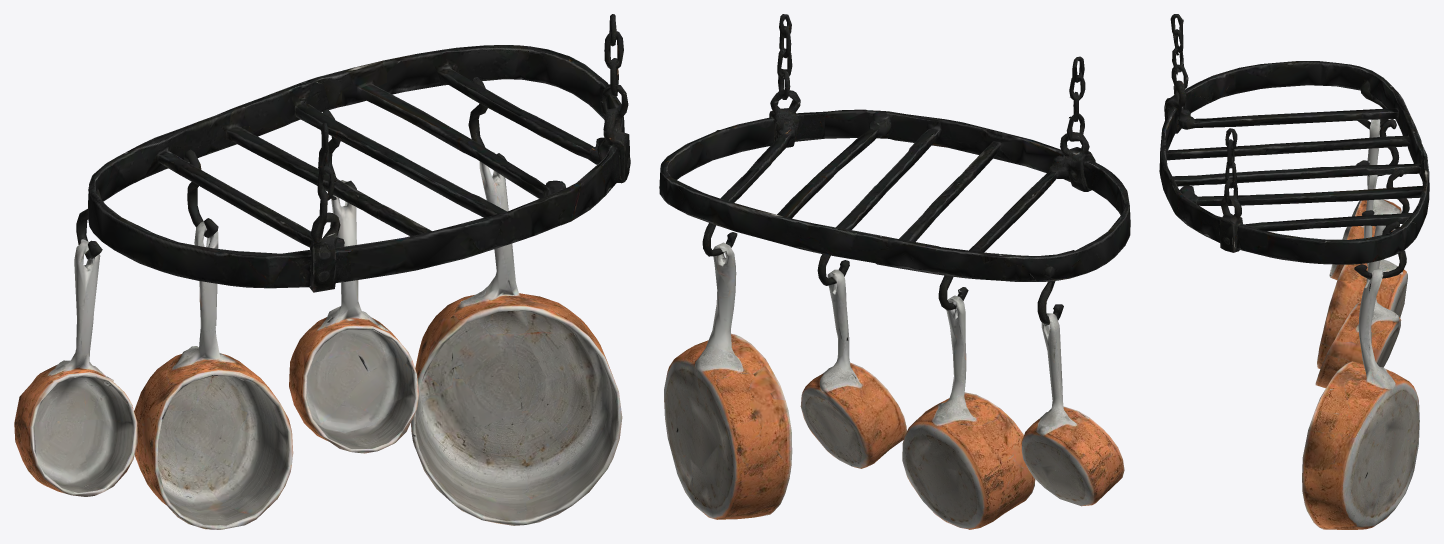
File: mobile.glb
3 renders of one model, left to right at view 1: azimuth 30°, elevation 25°; view 2: azimuth 150°, elevation 25°; view 3: azimuth 270°, elevation 25°, orthographic. The views are drawn at different scales.
Parts seen in each view (by area): view 1: d-potrack; view 2: d-potrack; view 3: d-potrack.
Part boxes in pixels (box(x1,y1,x2,y2)): d-potrack: box(14, 14, 630, 529); d-potrack: box(659, 14, 1130, 529); d-potrack: box(1159, 14, 1429, 529).
Size of the model in its own units: 0.7987 by 0.7416 by 0.448.
Materials: 1 (1 with a texture image).
